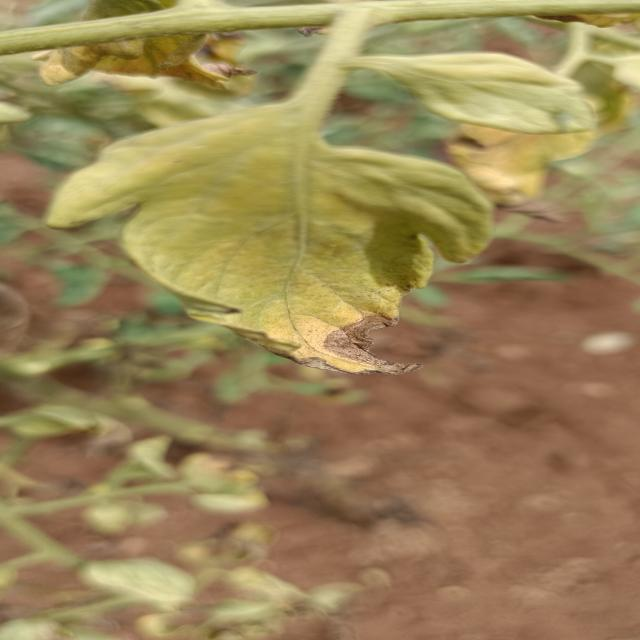tomato_early blight: (73, 107, 492, 375)
